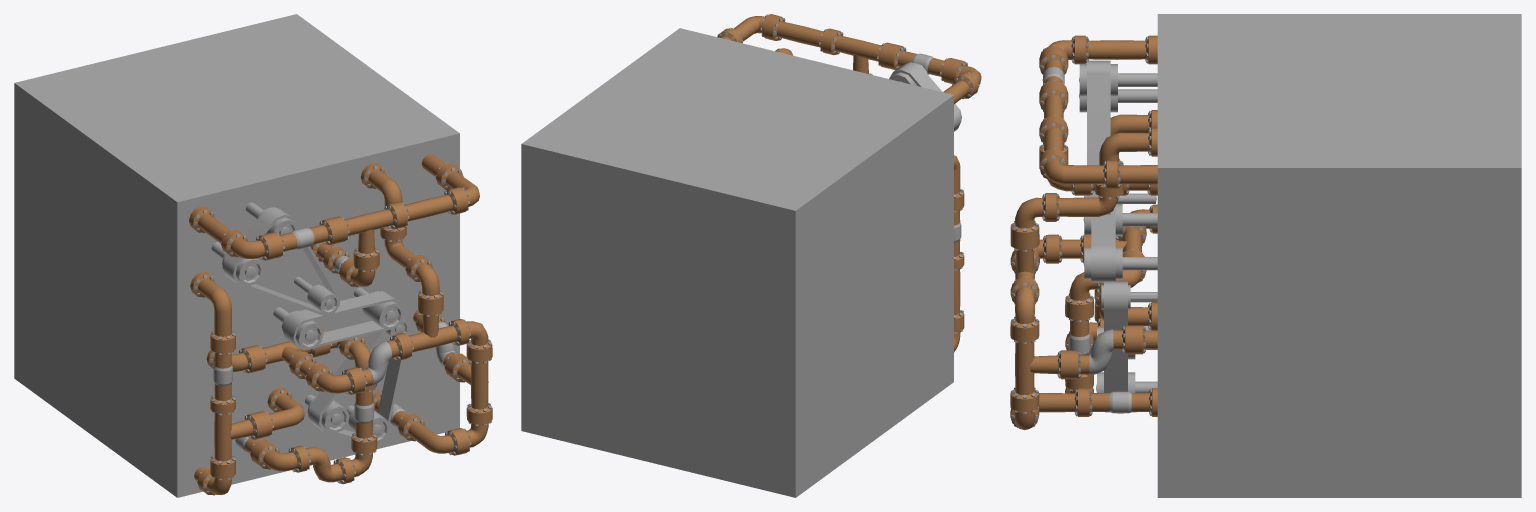
Rendered from gj_wall_001.fbx.
3 views of the same model, side by side, from view 1: azimuth 30°, elevation 25°; view 2: azimuth 150°, elevation 25°; view 3: azimuth 270°, elevation 25° (orthographic). The views are drawn at different scales.
Parts seen in each view (by area): view 1: gj_wall_015; view 2: gj_wall_015; view 3: gj_wall_015.
Boxes of the visible parts, bbox=[...] form: gj_wall_015: bbox=[14, 14, 492, 497]; gj_wall_015: bbox=[521, 14, 981, 497]; gj_wall_015: bbox=[1010, 14, 1521, 497].
Size of the model in its own units: 0.7 by 0.7 by 0.9833.
